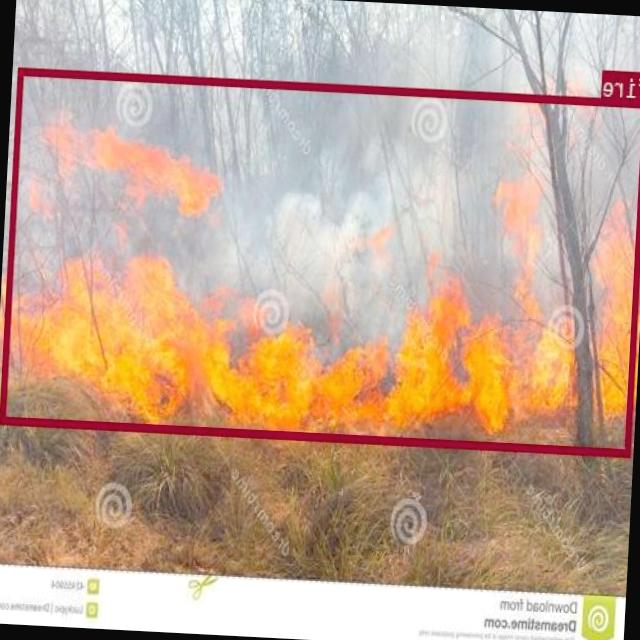fire: (0, 66, 640, 456)
